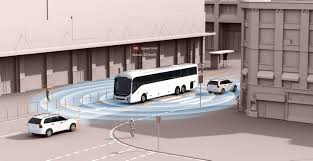bus: (111, 61, 198, 106)
